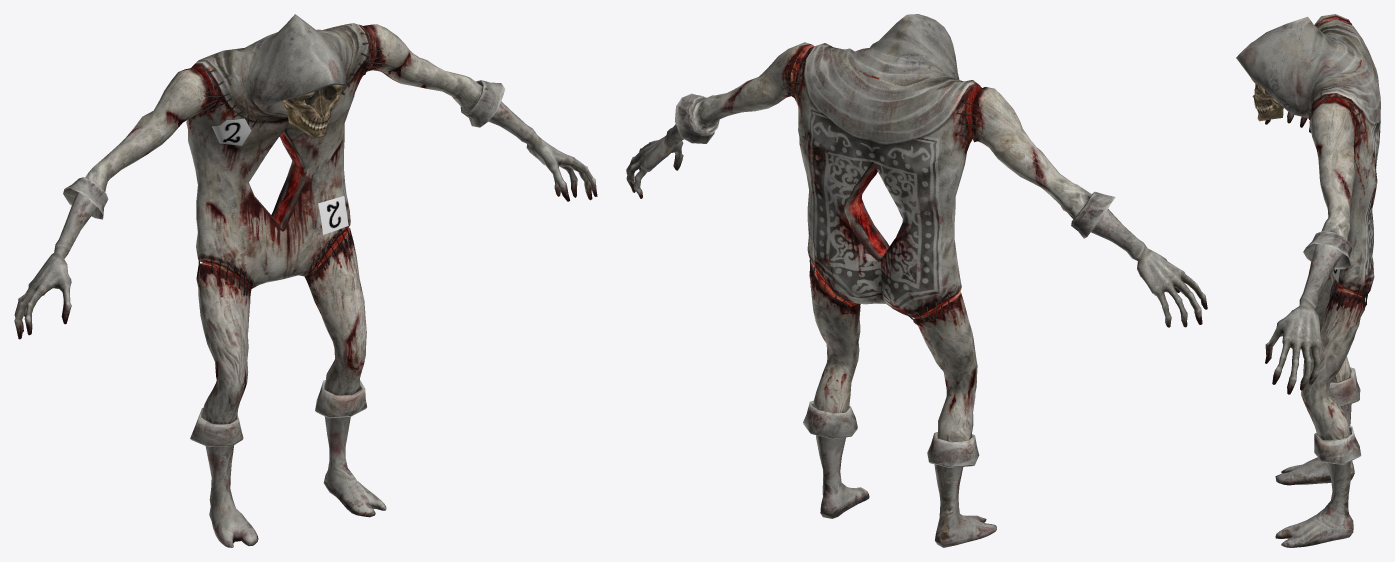
File: Card Guard Diamond.obj
The picture shows the model from 3 angles, left to right: view 1: azimuth 30°, elevation 25°; view 2: azimuth 150°, elevation 25°; view 3: azimuth 270°, elevation 25°; orthographic projection. The views are drawn at different scales.
Parts seen in each view (by area): view 1: SK_CardGuard_Diamond.001; view 2: SK_CardGuard_Diamond.001; view 3: SK_CardGuard_Diamond.001.
Boxes of the visible parts, x1,y1,x2,y2 form: SK_CardGuard_Diamond.001: (14,14,597,547); SK_CardGuard_Diamond.001: (626,14,1207,547); SK_CardGuard_Diamond.001: (1236,14,1380,547).
Bounding box in the file's own units: 2.42 × 2.03 × 0.5399.
3 materials, 3 textured.
